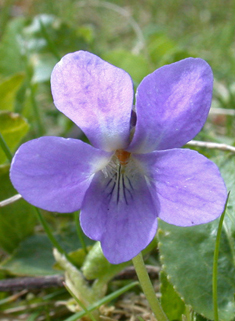violet: (26, 49, 231, 259)
